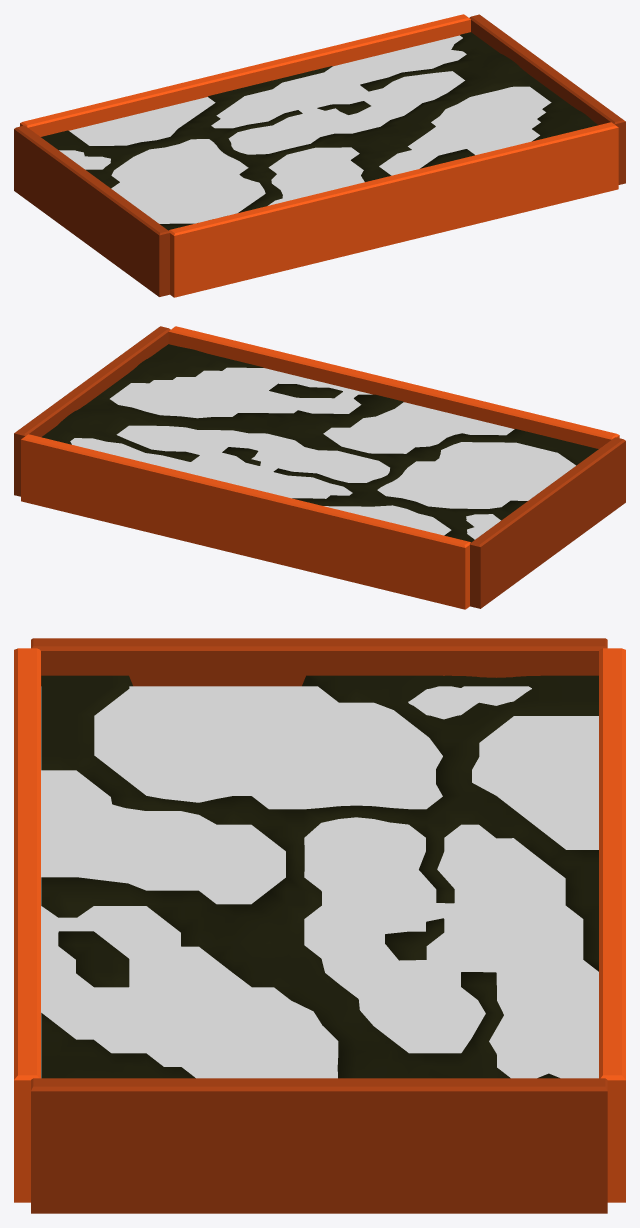
Rendered from 3D_ENVSB_001a.FBX.
The picture shows the model from 3 angles, top to bottom: view 1: azimuth 30°, elevation 25°; view 2: azimuth 150°, elevation 25°; view 3: azimuth 270°, elevation 25°; orthographic projection. The views are drawn at different scales.
Parts seen in each view (by area): view 1: SandBoxQuicksand, WoodplanksLong001, SandboxSand, WoodplanksShort001, WoodplanksLong, WoodplanksShort; view 2: SandBoxQuicksand, WoodplanksLong, SandboxSand, WoodplanksShort001, WoodplanksLong001, WoodplanksShort; view 3: SandBoxQuicksand, WoodplanksShort, SandboxSand, WoodplanksShort001, WoodplanksLong, WoodplanksLong001.
Part boxes in pixels (box(x1,y1,x2,y2)): SandBoxQuicksand: box(59, 35, 551, 223); WoodplanksLong001: box(168, 122, 618, 297); SandboxSand: box(41, 32, 597, 230); WoodplanksShort001: box(14, 125, 169, 296); WoodplanksLong: box(20, 14, 470, 136); WoodplanksShort: box(469, 14, 625, 184); SandBoxQuicksand: box(70, 367, 575, 539); WoodplanksLong: box(21, 434, 470, 609); SandboxSand: box(41, 344, 598, 542); WoodplanksShort001: box(470, 437, 625, 608); WoodplanksLong001: box(168, 326, 619, 448); WoodplanksShort: box(14, 326, 170, 496); SandBoxQuicksand: box(41, 686, 598, 1078); WoodplanksShort: box(31, 1078, 607, 1213); SandboxSand: box(41, 675, 598, 1078); WoodplanksShort001: box(31, 638, 607, 686); WoodplanksLong: box(599, 648, 625, 1202); WoodplanksLong001: box(14, 648, 40, 1202).
Size of the model in its own units: 98.89 by 12.82 by 56.63.
